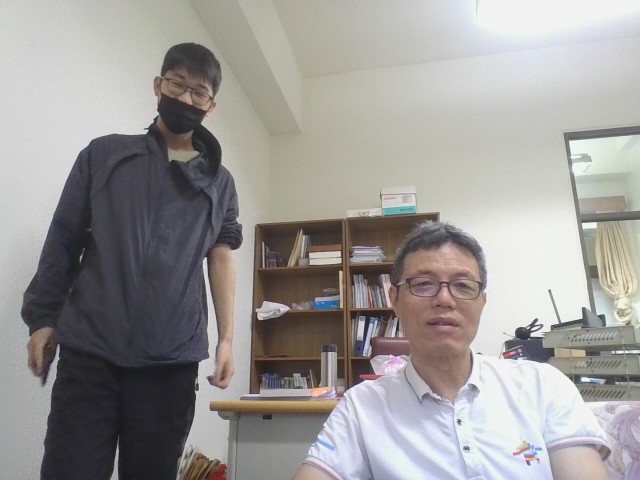No_Gloves: (22, 324, 60, 382), (204, 332, 239, 392)
No_Helmet: (385, 218, 492, 376), (149, 39, 223, 139)
person: (12, 29, 252, 479), (265, 200, 632, 480)
